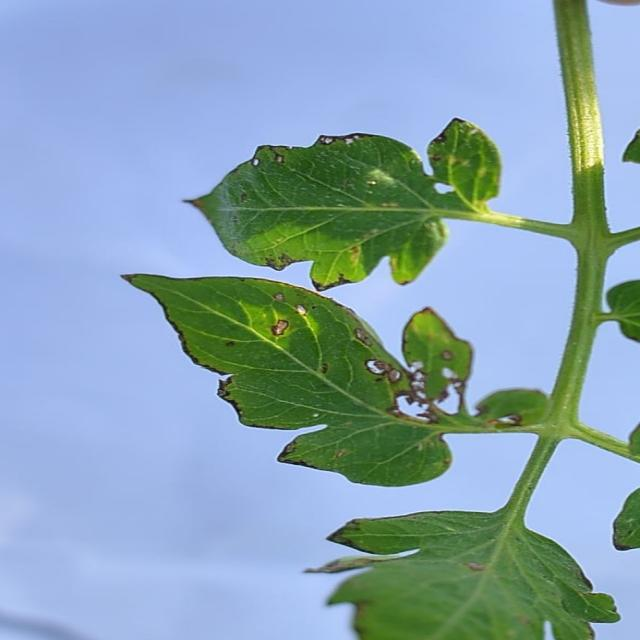infected: (184, 272, 528, 439), (204, 112, 508, 294), (294, 506, 603, 638)
